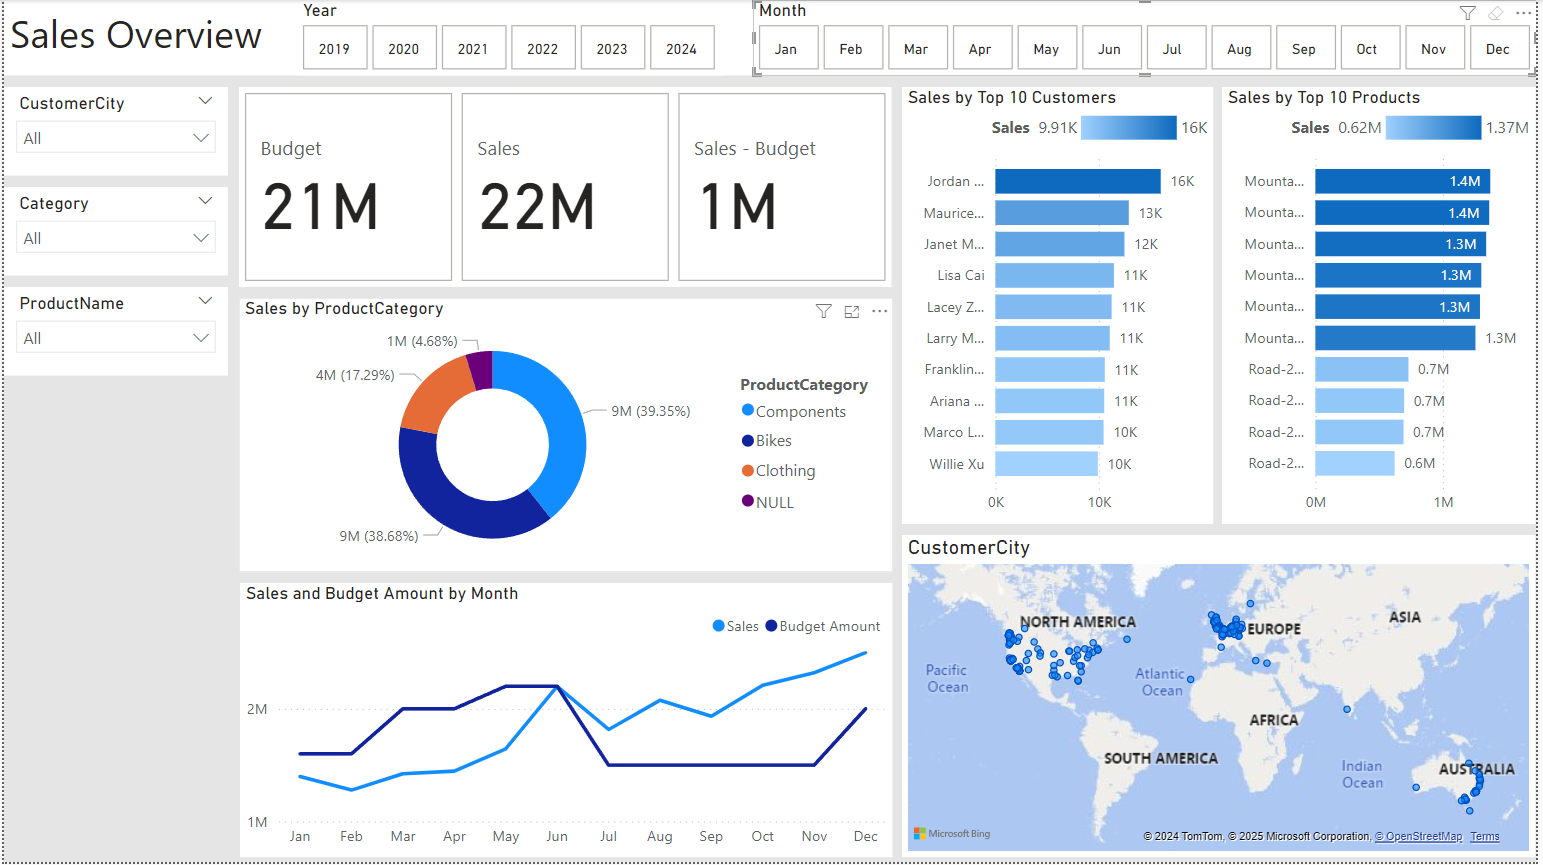

Layout of this report page (visuals, bound fields, positions):
{"tool":"powerbi","page":{"name":"Page 1","canvas":[1280,720],"ordinal":0},"visuals":[{"type":"textbox","box":[0,0,1280,63.4],"z":0},{"type":"slicer","fields":{"Values":["DIM_Customers.CustomerCity"]},"box":[0,73,187.2,73.9],"z":1000},{"type":"slicer","fields":{"Values":["DIM_Products_And_Category.ProductCategory"]},"box":[0,156.5,187.2,73.9],"z":2000},{"type":"slicer","fields":{"Values":["DIM_Products_And_Category.RroductName"]},"box":[0,240.1,187.2,73.9],"z":3000},{"type":"advancedSlicerVisual","fields":{"Values":["DIM_Calender.Year"]},"box":[244.6,0,354.9,63.3],"z":4000},{"type":"advancedSlicerVisual","fields":{"Values":["DIM_Calender.MonthShort"]},"box":[625.9,0,654.2,63.3],"z":5000},{"type":"cardVisual","fields":{"Data":["Base Measures.Budget Amount","Base Measures.Sales","Base Measures.Sales - Budget"]},"box":[196.4,72.8,545.3,167.5],"z":6000},{"type":"donutChart","fields":{"Category":["DIM_Products_And_Category.ProductCategory"],"Y":["Base Measures.Sales"]},"box":[196.7,248.8,545.6,229.2],"z":7000},{"type":"lineChart","fields":{"Y":["Base Measures.Sales","Base Measures.Budget Amount"],"Category":["DIM_Calender.MonthShort"]},"box":[197.5,486.6,544.7,229.2],"z":8000},{"type":"barChart","title":"Sales by Top 10 Customers","fields":{"Y":["Base Measures.Sales"],"Category":["DIM_Customers.FullName"]},"box":[749.9,72.7,260,365.1],"z":9000},{"type":"barChart","title":"Sales by Top 10 Products","fields":{"Y":["Base Measures.Sales"],"Category":["DIM_Products_And_Category.RroductName"]},"box":[1017.7,72.6,261.8,364.8],"z":10000},{"type":"map","fields":{"Category":["DIM_Customers.CustomerCity"]},"box":[750.1,446.9,529.4,268.7],"z":10001}]}

Visuals, with their boxes in screenshot pixels (x1, y1, x2, y2), scaled from the page's 1280x720 canvas onto the 1543x865 screenshot:
textbox: <box>0,0,1542,76</box>
slicer - DIM_Customers.CustomerCity: <box>0,88,226,176</box>
slicer - DIM_Products_And_Category.ProductCategory: <box>0,188,226,277</box>
slicer - DIM_Products_And_Category.RroductName: <box>0,288,226,377</box>
advancedSlicerVisual - DIM_Calender.Year: <box>295,0,723,76</box>
advancedSlicerVisual - DIM_Calender.MonthShort: <box>755,0,1542,76</box>
cardVisual - Base Measures.Budget Amount x Base Measures.Sales: <box>237,87,894,289</box>
donutChart - DIM_Products_And_Category.ProductCategory x Base Measures.Sales: <box>237,299,895,574</box>
lineChart - Base Measures.Sales x Base Measures.Budget Amount: <box>238,585,895,860</box>
"Sales by Top 10 Customers" barChart: <box>904,87,1217,526</box>
"Sales by Top 10 Products" barChart: <box>1227,87,1542,525</box>
map - DIM_Customers.CustomerCity: <box>904,537,1542,860</box>
